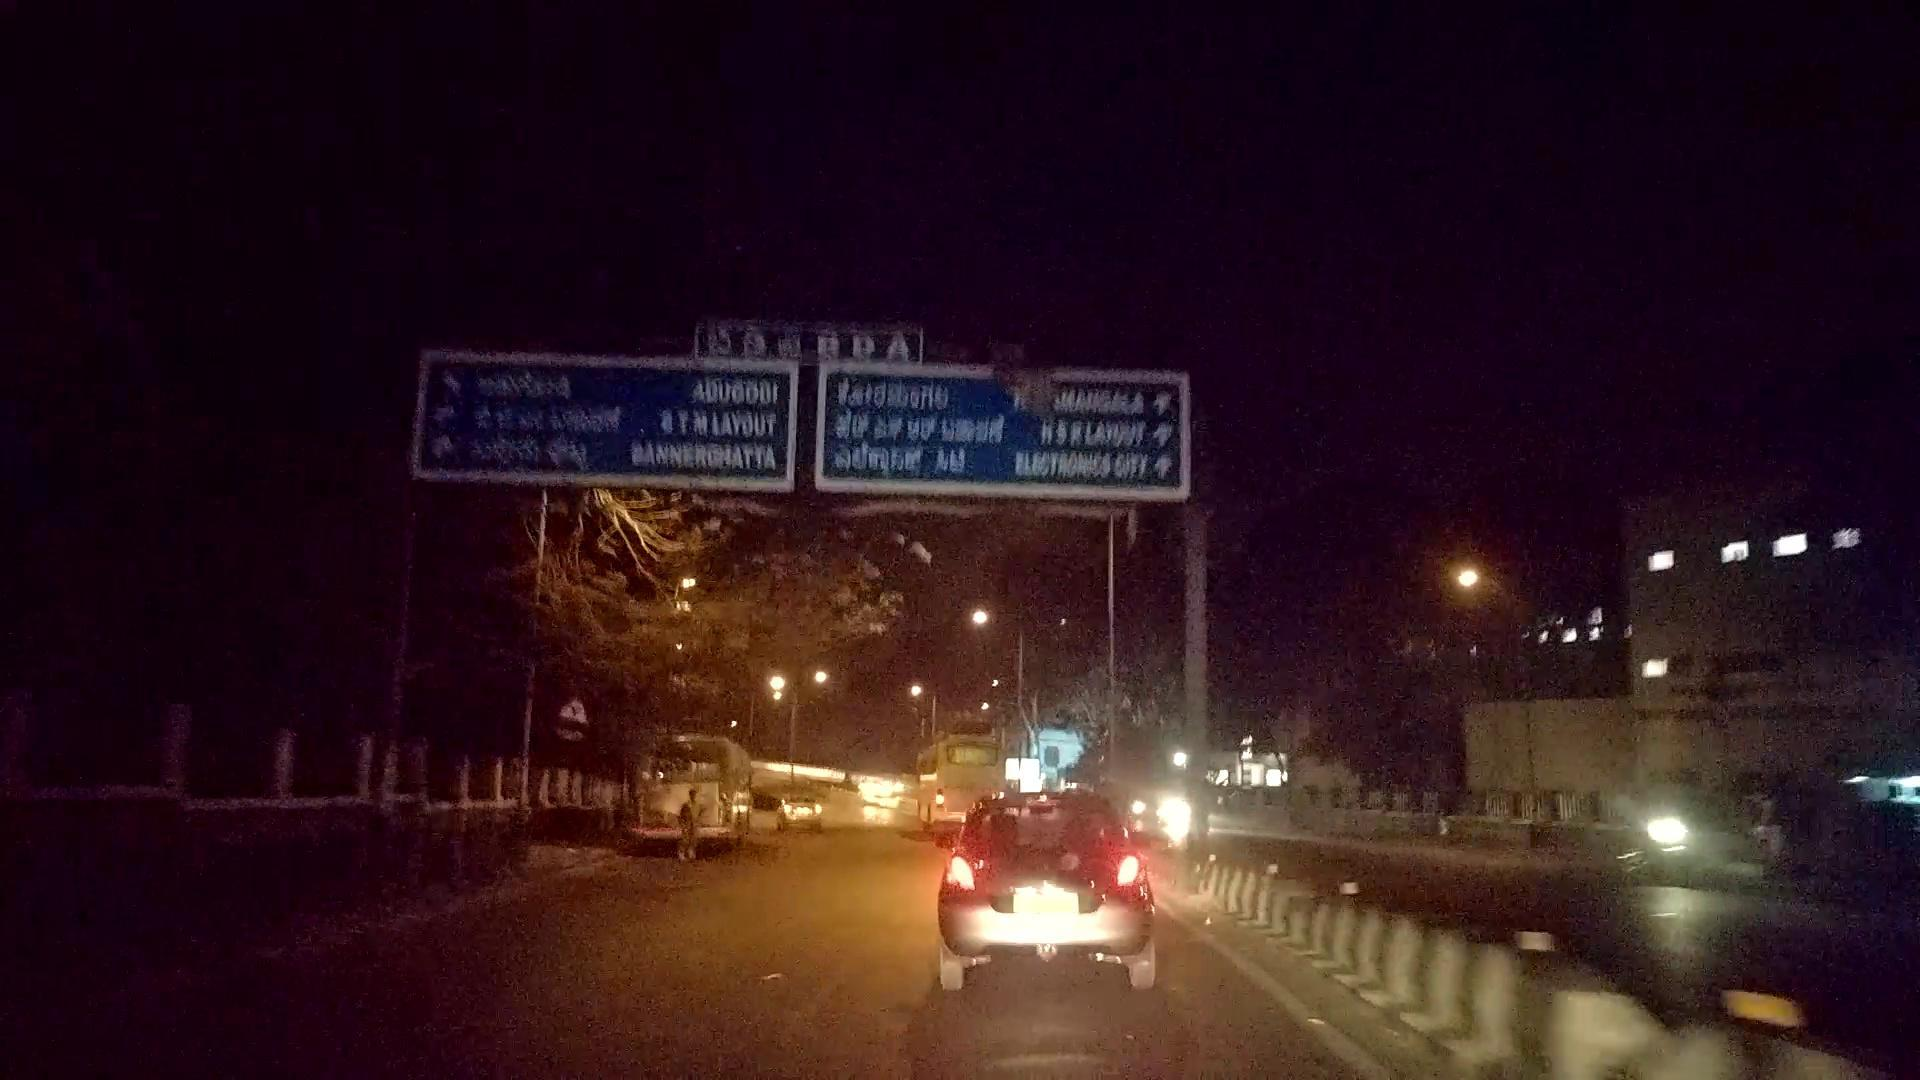on: (550, 411, 887, 731)
